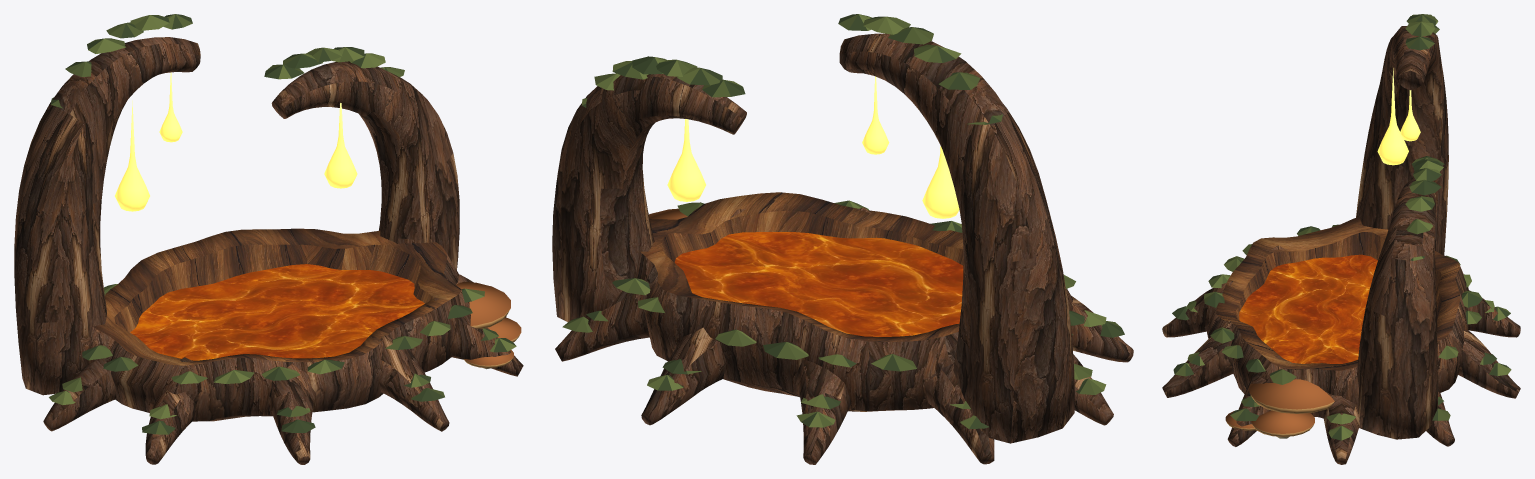
The picture shows the model from 3 angles, left to right: view 1: azimuth 30°, elevation 25°; view 2: azimuth 150°, elevation 25°; view 3: azimuth 270°, elevation 25°; orthographic projection. The views are drawn at different scales.
Visible parts, largest first — view 1: heartwood-resin-font · evaluated preview mesh; view 2: heartwood-resin-font · evaluated preview mesh; view 3: heartwood-resin-font · evaluated preview mesh.
Part boxes in pixels (x1,y1,x2,y2): heartwood-resin-font · evaluated preview mesh: (14,14,523,464); heartwood-resin-font · evaluated preview mesh: (552,14,1133,464); heartwood-resin-font · evaluated preview mesh: (1162,14,1520,464).
Bounding box in the file's own units: 6.88 × 4.98 × 5.21.
10 materials, 3 textured.
